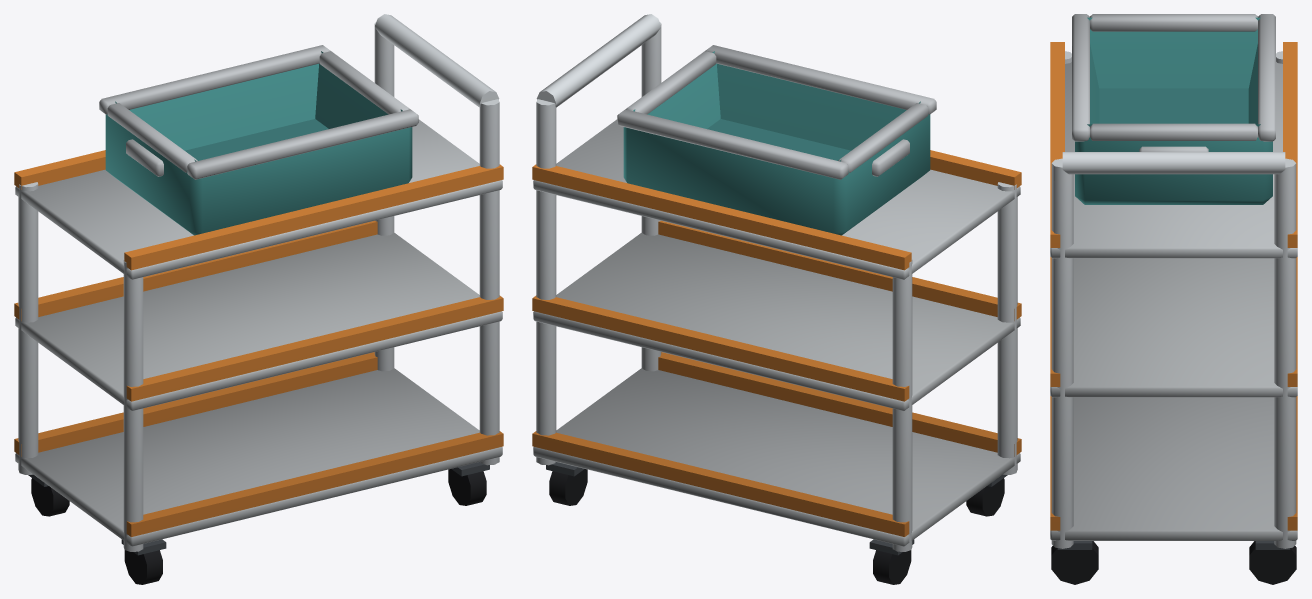
The model's file is SM_BusCart_01.glb.
The picture shows the model from 3 angles, left to right: view 1: azimuth 30°, elevation 25°; view 2: azimuth 150°, elevation 25°; view 3: azimuth 270°, elevation 25°; orthographic projection. The views are drawn at different scales.
Visible parts, largest first — view 1: SM_BusCart_01; view 2: SM_BusCart_01; view 3: SM_BusCart_01.
Boxes of the visible parts, x1=… form: SM_BusCart_01: x1=14, y1=14, x2=503, y2=584; SM_BusCart_01: x1=532, y1=14, x2=1021, y2=584; SM_BusCart_01: x1=1050, y1=14, x2=1297, y2=584.
Bounding box in the file's own units: 0.926 × 0.974 × 0.5.
Materials: 1 (1 with a texture image).
